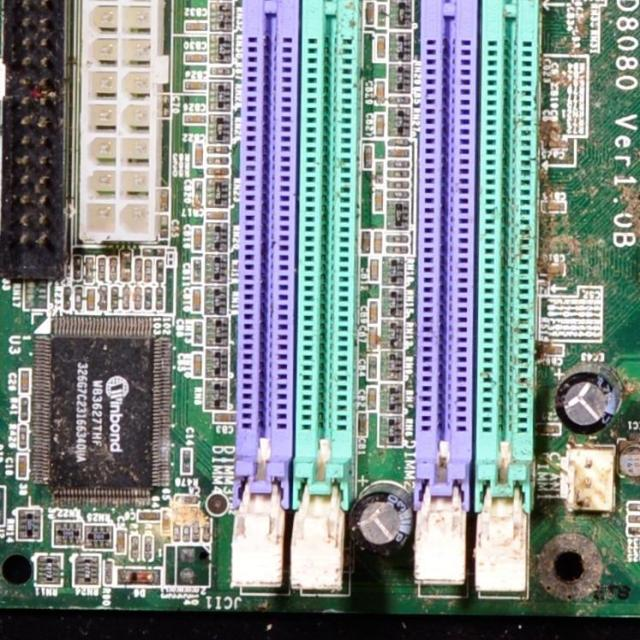IC: (42, 318, 165, 497)
capacitor: (346, 476, 427, 569), (555, 366, 628, 439), (178, 76, 209, 96), (191, 226, 207, 260), (358, 142, 376, 172), (178, 444, 193, 479), (181, 48, 210, 65), (18, 365, 32, 396), (106, 256, 120, 285), (374, 34, 389, 60), (181, 112, 207, 127), (192, 177, 204, 209), (17, 451, 29, 483), (96, 256, 109, 284), (373, 182, 385, 212), (142, 528, 152, 562), (375, 77, 386, 105), (367, 330, 378, 358), (129, 534, 140, 562), (365, 385, 375, 415), (88, 286, 98, 314), (192, 144, 204, 167), (115, 528, 124, 558), (209, 156, 233, 167), (183, 21, 212, 30), (373, 227, 382, 256), (193, 284, 202, 313), (191, 352, 200, 381), (370, 297, 378, 326), (164, 506, 172, 535), (205, 168, 228, 177), (376, 110, 382, 144), (122, 284, 130, 307), (206, 146, 230, 153), (370, 258, 375, 280)
connector: (0, 0, 65, 289), (82, 0, 152, 251)
resistor: (375, 414, 405, 447), (74, 554, 102, 586), (17, 506, 44, 539), (206, 176, 233, 208), (203, 314, 230, 346), (209, 29, 234, 63), (387, 200, 413, 232), (381, 316, 404, 352), (85, 522, 111, 552), (206, 218, 230, 250), (37, 552, 61, 584), (206, 382, 231, 412), (379, 351, 403, 382), (209, 2, 232, 34), (382, 383, 405, 415), (387, 0, 413, 28), (52, 522, 82, 546), (391, 105, 411, 140), (205, 253, 229, 282), (389, 30, 412, 60), (206, 350, 231, 377), (208, 80, 232, 108), (382, 287, 402, 319), (205, 284, 227, 313), (209, 114, 232, 140), (383, 254, 401, 285), (391, 68, 409, 95), (69, 252, 82, 282), (18, 398, 31, 422), (384, 160, 410, 170), (64, 286, 74, 312), (155, 258, 165, 282), (386, 179, 408, 189), (155, 286, 164, 310), (19, 423, 26, 449), (144, 286, 151, 309), (387, 171, 411, 177), (134, 256, 138, 280)
